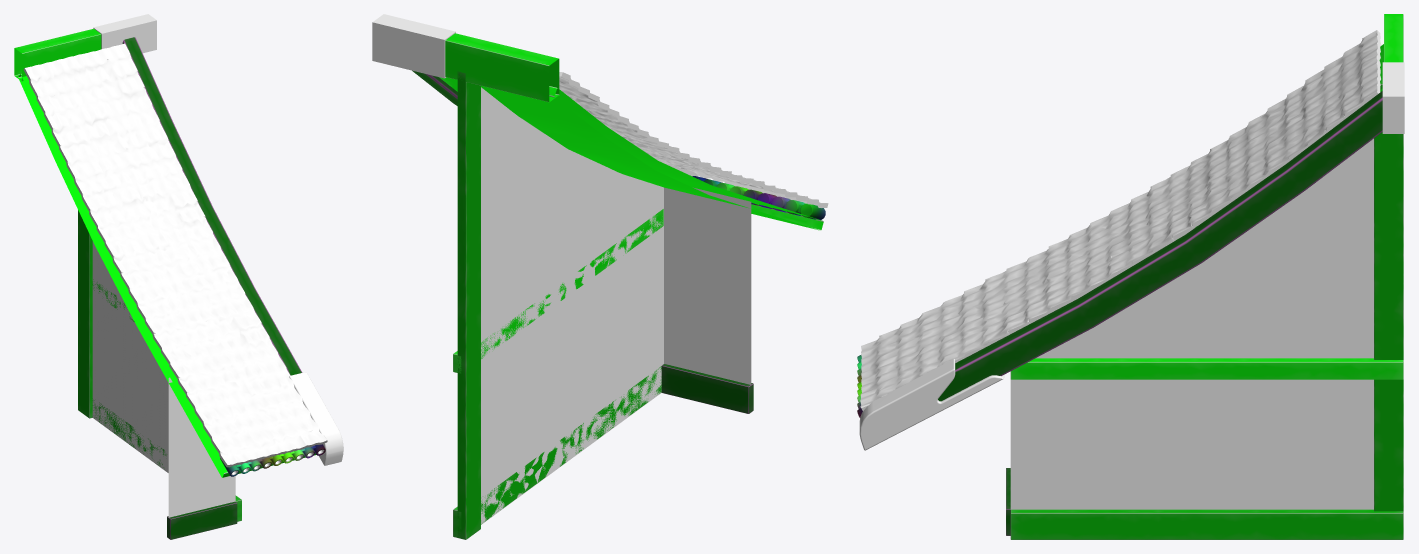
The model's file is roof_100_01_right.fbx.
The picture shows the model from 3 angles, left to right: view 1: azimuth 30°, elevation 25°; view 2: azimuth 150°, elevation 25°; view 3: azimuth 270°, elevation 25°; orthographic projection. The views are drawn at different scales.
Parts seen in each view (by area): view 1: roof_100_01_right; view 2: roof_100_01_right; view 3: roof_100_01_right.
Part boxes in pixels (x1,y1,x2,y2): roof_100_01_right: (14, 14, 343, 539); roof_100_01_right: (372, 14, 828, 539); roof_100_01_right: (857, 14, 1404, 539).
Size of the model in its own units: 2.01 by 5.41 by 5.58.
